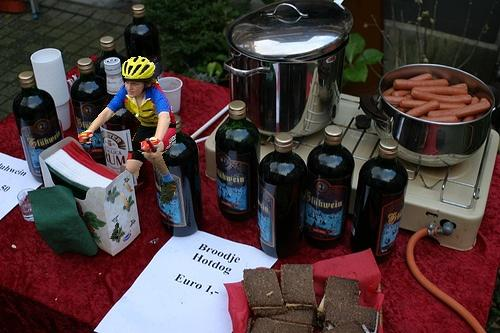tampered: (79, 57, 176, 239)
